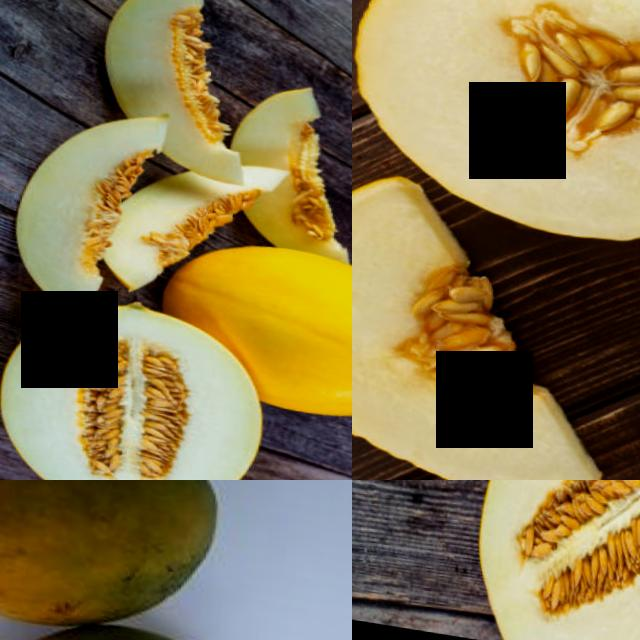mango: (0, 480, 230, 639)
melon: (352, 0, 640, 263), (352, 202, 617, 480), (0, 286, 267, 480), (5, 99, 159, 315), (467, 480, 640, 640), (119, 153, 271, 276), (254, 244, 352, 430), (92, 0, 230, 116), (235, 68, 330, 165)
